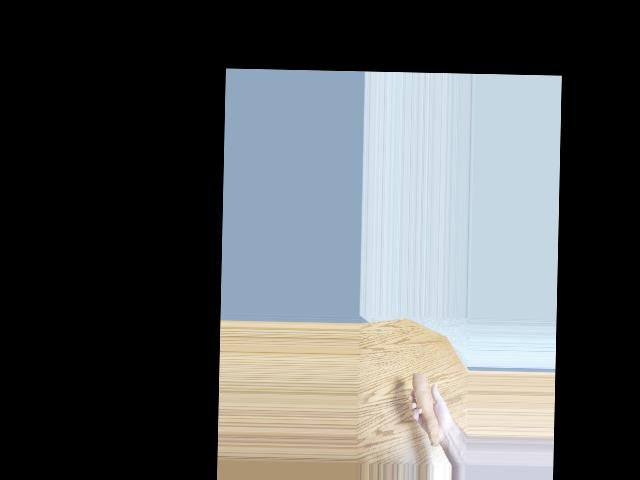sweet_potato: (408, 371, 441, 454)
